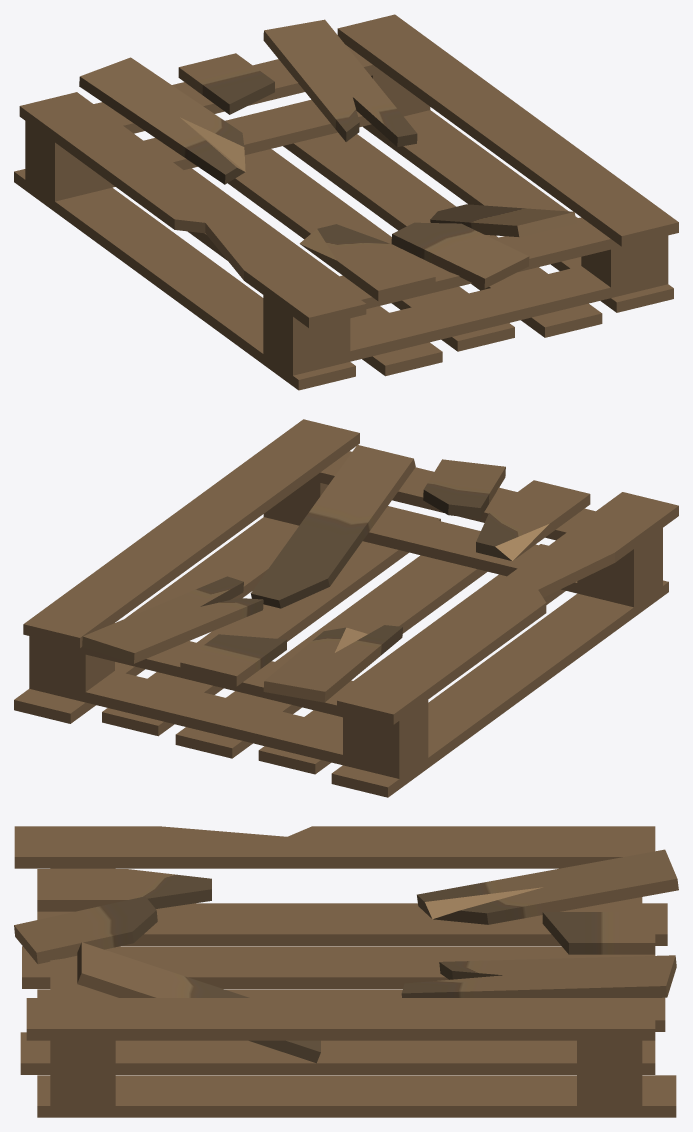
The model's file is SM_Wooden_Pallet_C.fbx.
The picture shows the model from 3 angles, top to bottom: view 1: azimuth 30°, elevation 25°; view 2: azimuth 150°, elevation 25°; view 3: azimuth 270°, elevation 25°; orthographic projection. The views are drawn at different scales.
Visible parts, largest first — view 1: SM_Wooden_Pallet_C; view 2: SM_Wooden_Pallet_C; view 3: SM_Wooden_Pallet_C.
Part boxes in pixels (box(x1,y1,x2,y2)): SM_Wooden_Pallet_C: box(14, 14, 678, 390); SM_Wooden_Pallet_C: box(14, 419, 678, 797); SM_Wooden_Pallet_C: box(14, 826, 678, 1117).
Bounding box in the file's own units: 112 × 26.17 × 155.
